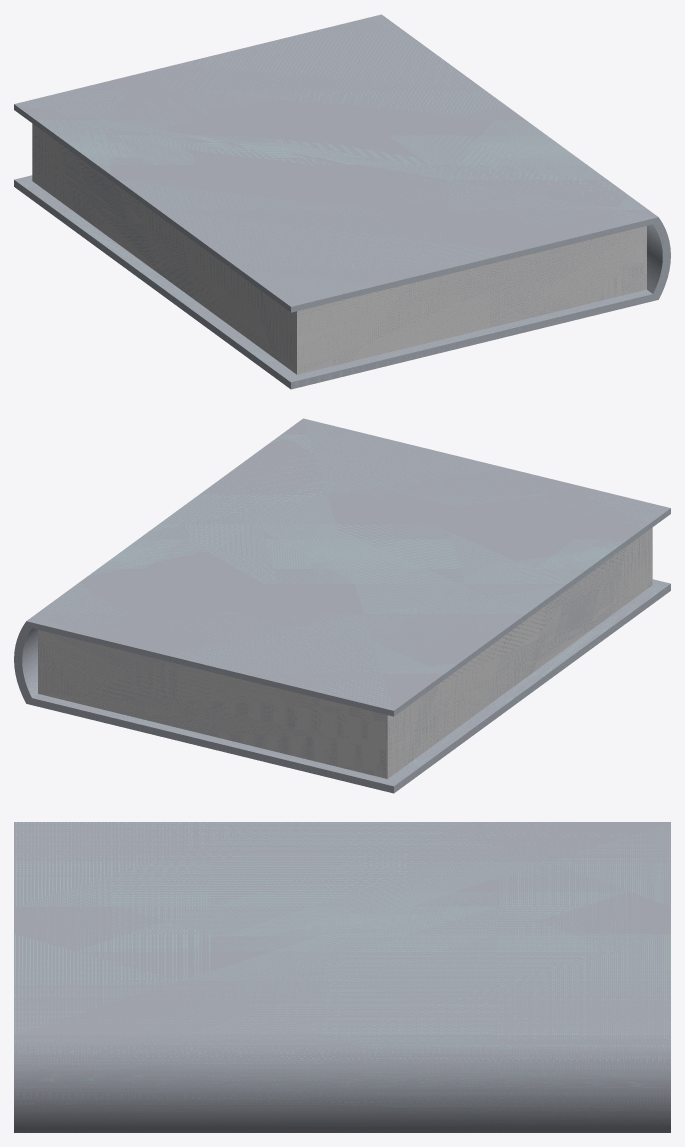
Rendered from book_full.dae.
3 renders of one model, top to bottom at view 1: azimuth 30°, elevation 25°; view 2: azimuth 150°, elevation 25°; view 3: azimuth 270°, elevation 25°, orthographic. The views are drawn at different scales.
Parts seen in each view (by area): view 1: group_1_001, group_0_001; view 2: group_1_001, group_0_001; view 3: group_1_001.
Part boxes in pixels (bbox=[...]): group_1_001: bbox=[14, 14, 670, 389]; group_0_001: bbox=[32, 123, 646, 374]; group_1_001: bbox=[14, 418, 670, 793]; group_0_001: bbox=[38, 527, 652, 778]; group_1_001: bbox=[14, 822, 670, 1132].
Bounding box in the file's own units: 0.1981 × 0.2501 × 0.0412.
